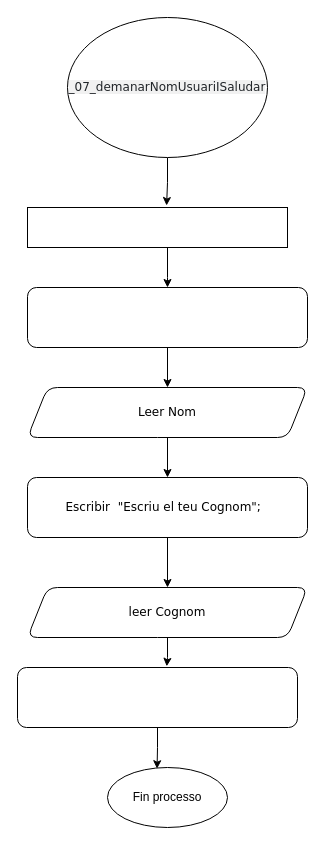
This 325x845 diagram has some shape labels left out. The shapes that lost their labels are listed below. From the top down, each one's centre as x and y in pixels, then its label:
(157,227): Definir Nom, cognom
(167,317): Escribir "Escriu el teu nom";
(157,697): Escribir " Hola ", nom, " ", Cognom;
